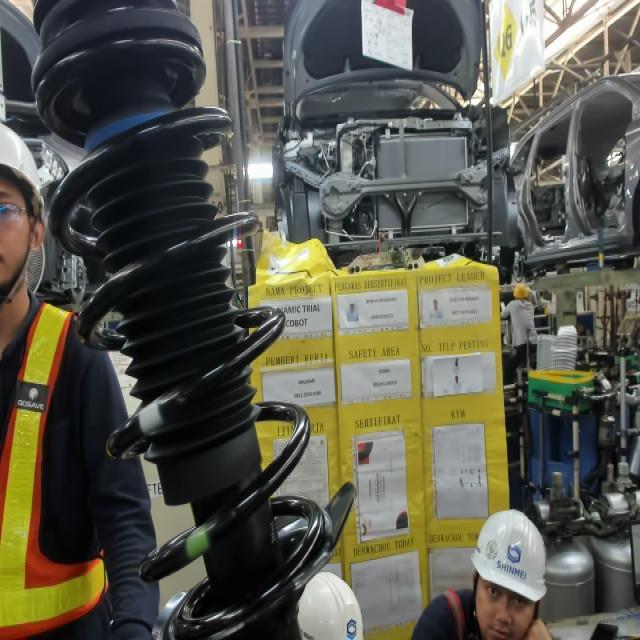Bumper-BR: (77, 104, 187, 162)
